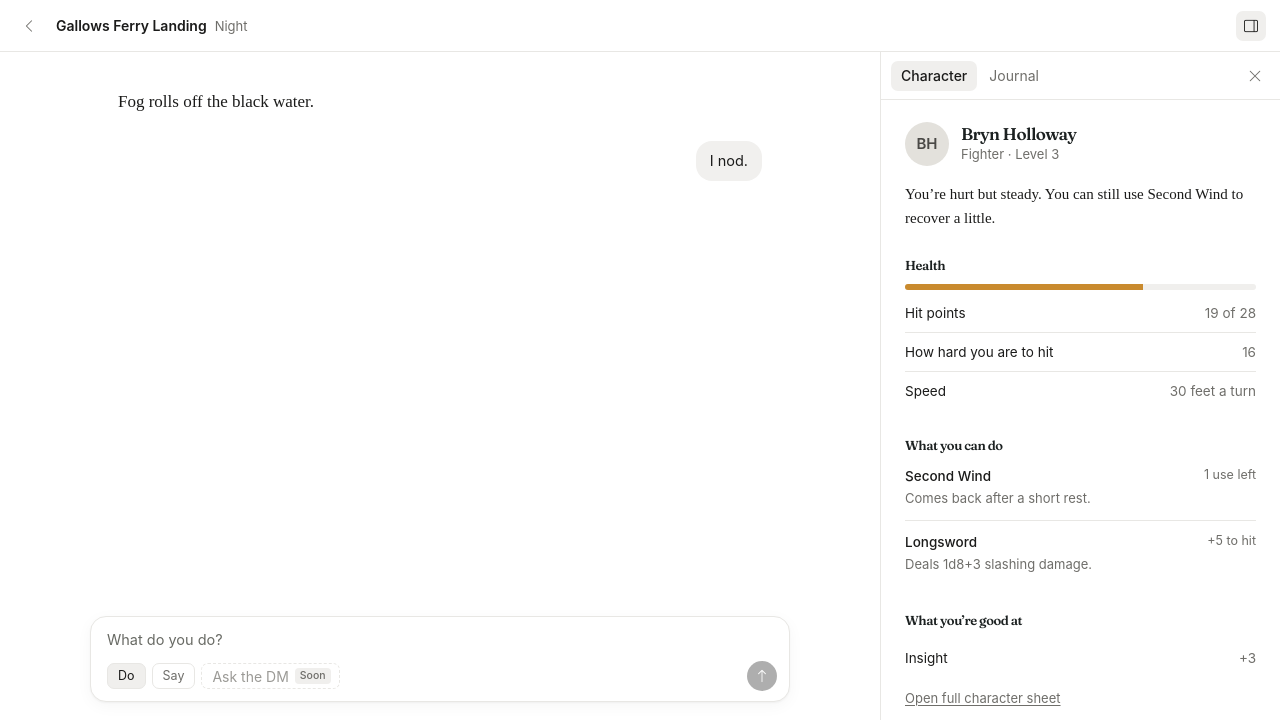
it: opens the journal
Click the tab "Journal" at [1014, 76], box x1=979 y1=60 x2=1049 y2=90
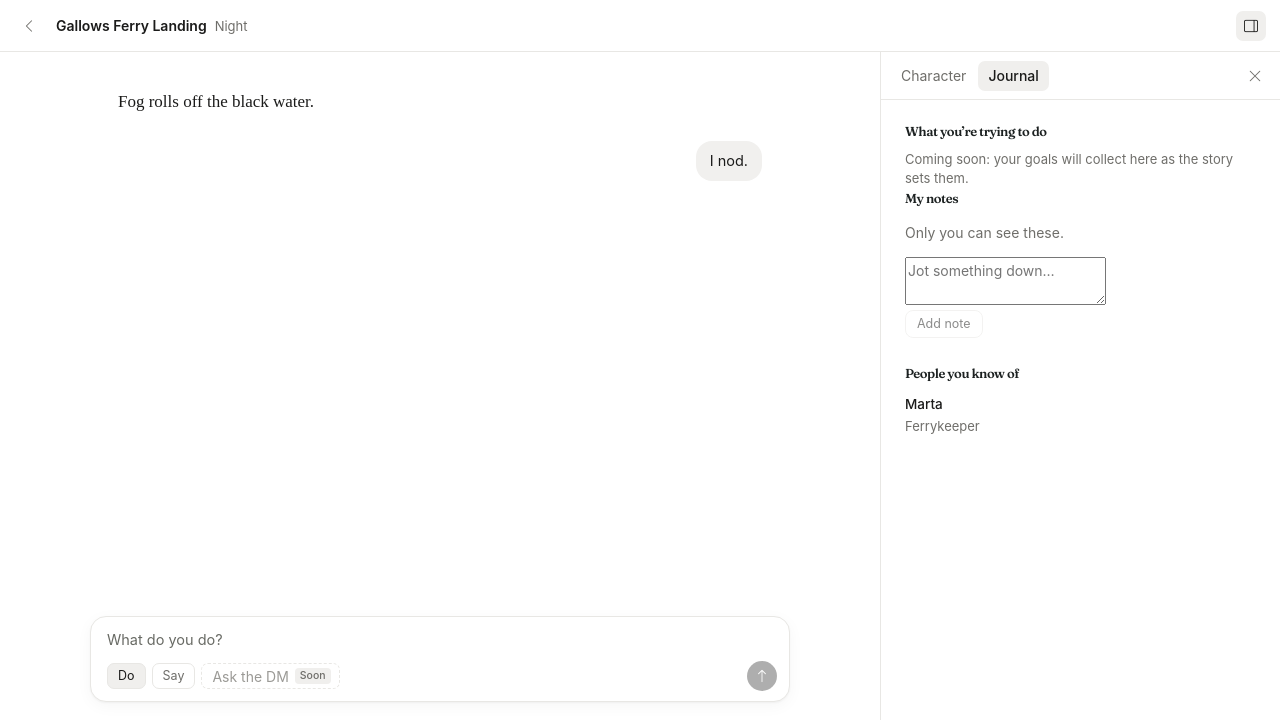
Result: the panel with class "tv-view" shows "Marta" at x1=905 y1=396 x2=943 y2=412
